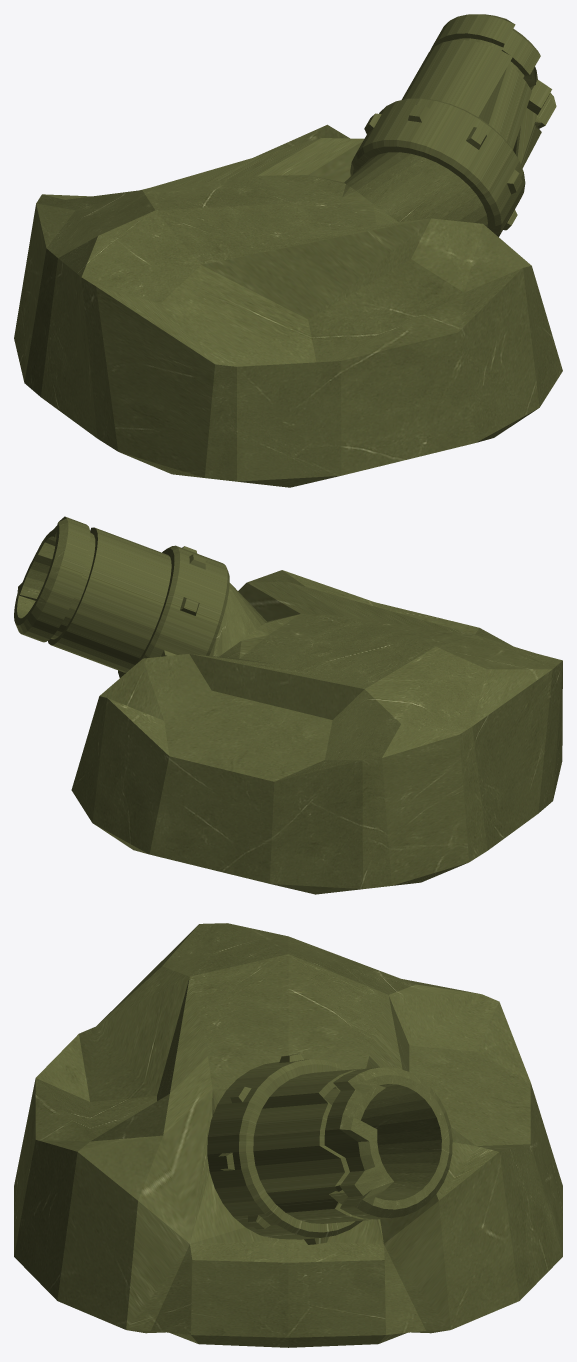
The model's file is ArtilleryDamaged1.fbx.
3 renders of one model, top to bottom at view 1: azimuth 30°, elevation 25°; view 2: azimuth 150°, elevation 25°; view 3: azimuth 270°, elevation 25°, orthographic. The views are drawn at different scales.
Visible parts, largest first — view 1: ArtilleryDamaged; view 2: ArtilleryDamaged; view 3: ArtilleryDamaged.
Boxes of the visible parts, x1=… form: ArtilleryDamaged: x1=14, y1=14, x2=562, y2=487; ArtilleryDamaged: x1=14, y1=516, x2=562, y2=894; ArtilleryDamaged: x1=14, y1=923, x2=562, y2=1347.
Size of the model in its own units: 892 by 646 by 1082.
